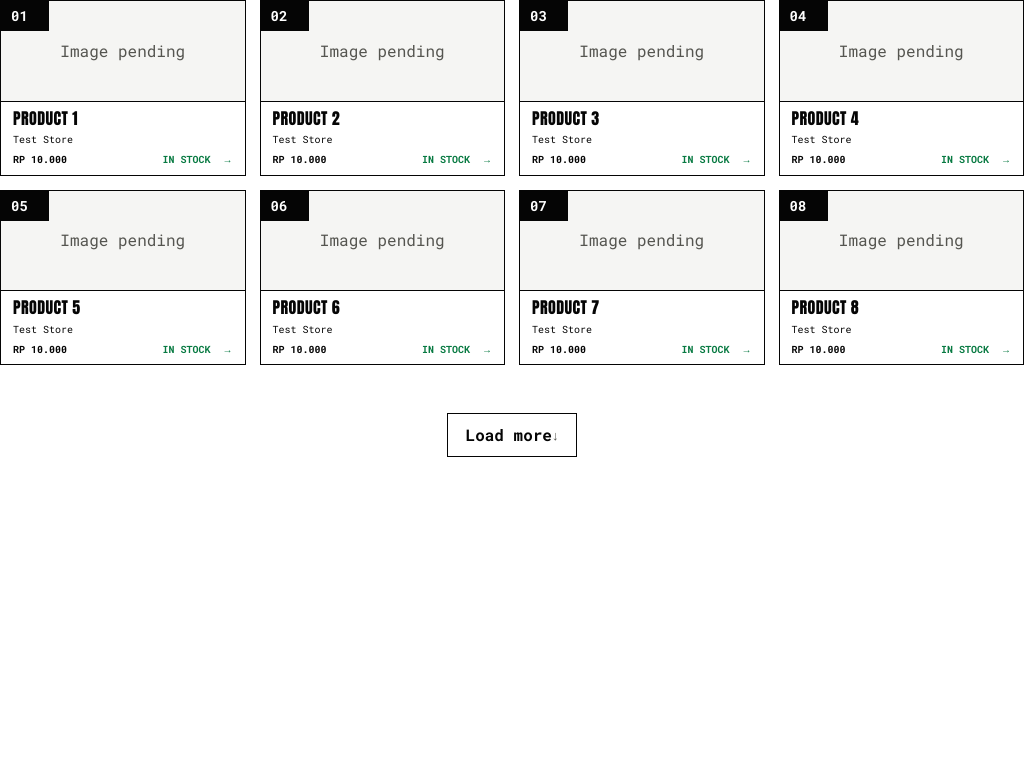
Test case: appends eight products per click below current rows
Click the button "Load more ↓" at coordinates (512, 435), box [446, 413, 577, 457]
(page scrolled)
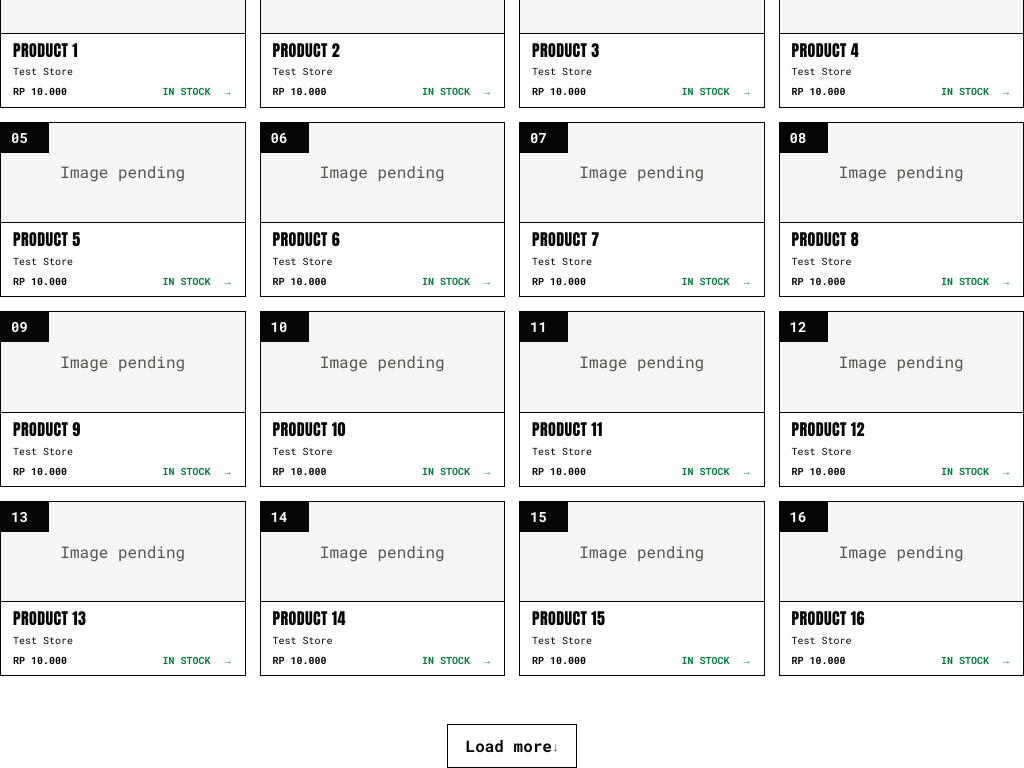
Click the button "Load more ↓" at coordinates (512, 746), box [446, 724, 577, 767]
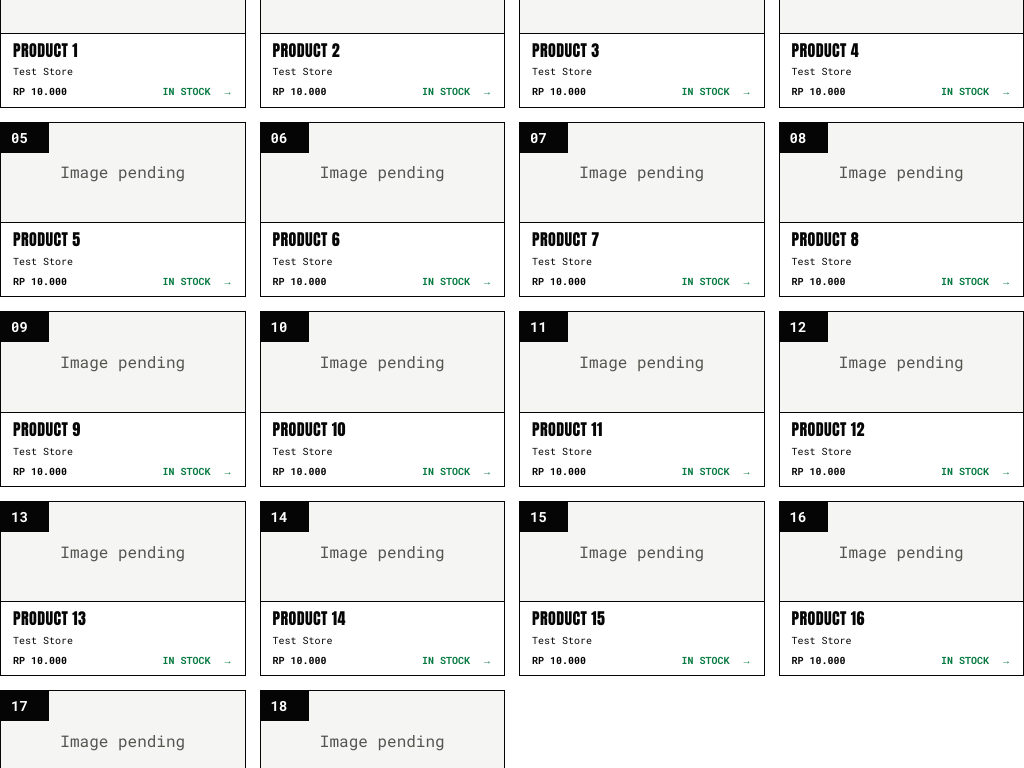
Check: the button "Load more" is gone
